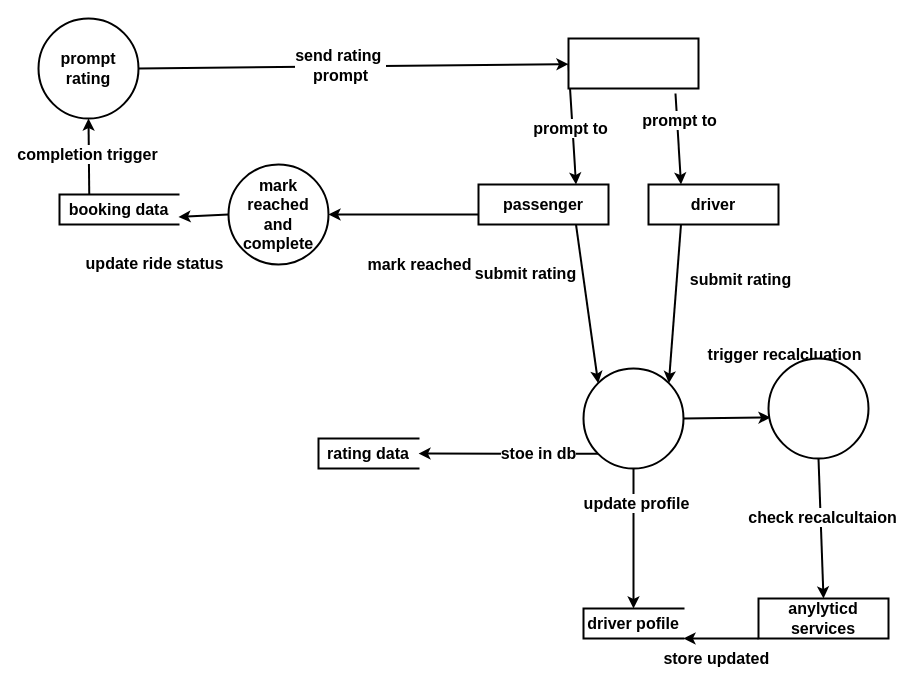
The diagram is 914 pixels wide and 685 high, and some of its shapes have lost their labels. Each missing label, with the centre of its shape:
"notification services" belongs at point (633, 63).
"store rating" belongs at point (633, 418).
"trigger ratings" belongs at point (818, 408).
